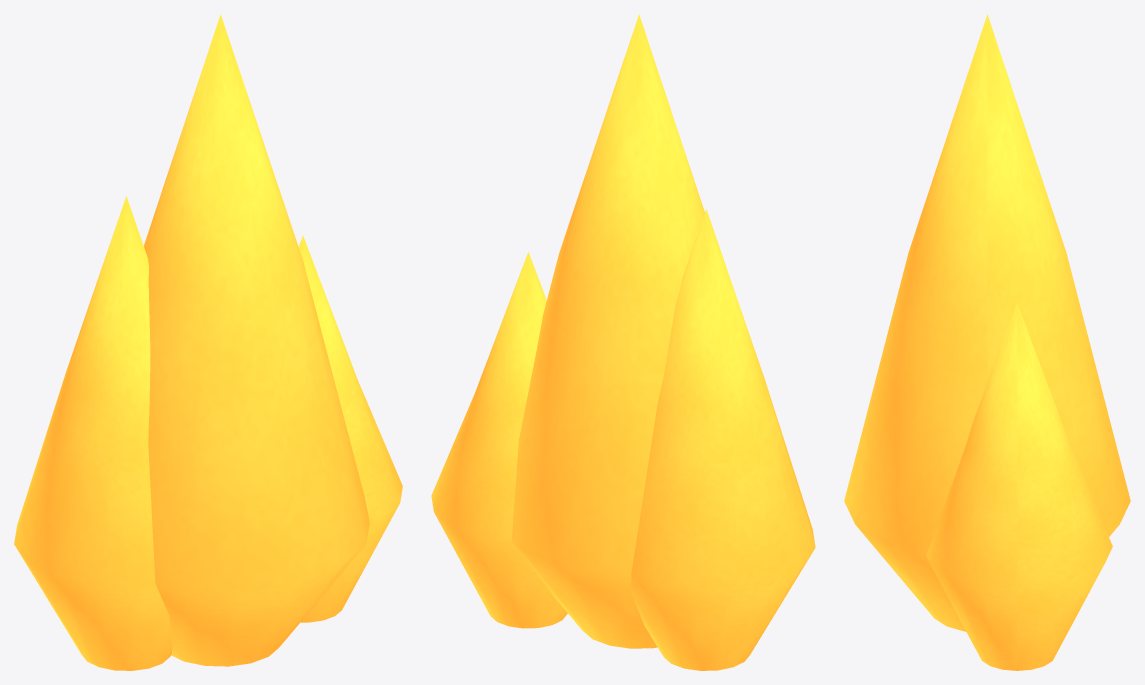
Rendered from flame.glb.
The picture shows the model from 3 angles, left to right: view 1: azimuth 30°, elevation 25°; view 2: azimuth 150°, elevation 25°; view 3: azimuth 270°, elevation 25°; orthographic projection. The views are drawn at different scales.
Parts seen in each view (by area): view 1: flame; view 2: flame; view 3: flame.
Boxes of the visible parts, x1=… form: flame: x1=14, y1=14, x2=402, y2=670; flame: x1=431, y1=14, x2=815, y2=670; flame: x1=844, y1=14, x2=1130, y2=670.
Size of the model in its own units: 0.67 by 1.1 by 0.48.
Materials: 1 (1 with a texture image).
